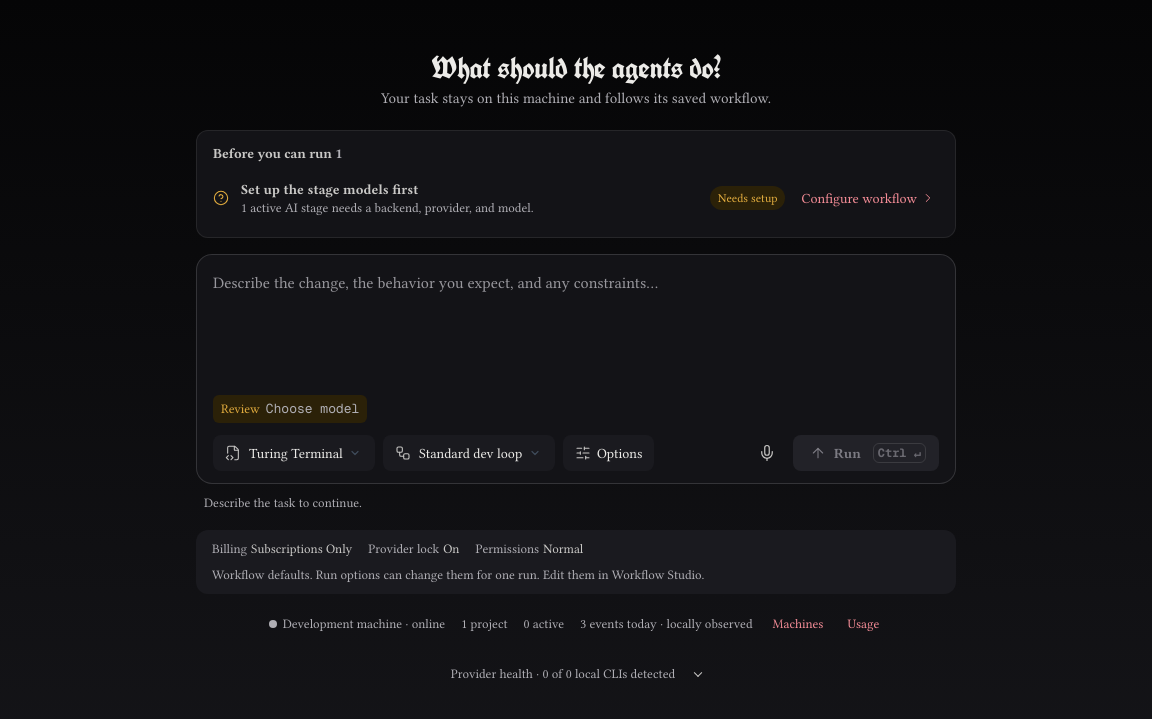
launch blockers (matrix A2) › [GREEN guard] Run stays enabled when only stage models are missing, because the server preview is authoritative
Type "Fix the parser" into the text box named "What should the agents do?" at (576, 327), box [213, 271, 939, 383]
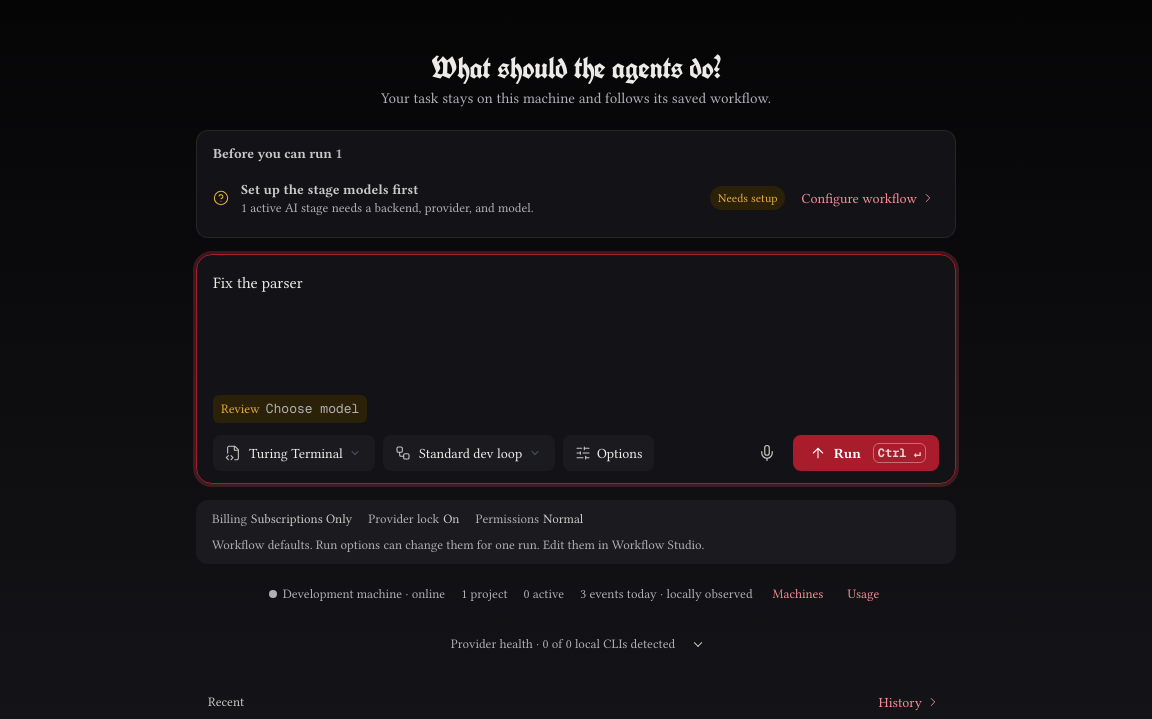
Check: the text "Set up the stage models first" is shown, box [241, 181, 418, 197]
Check: the button with aria-label "Review run preview" is enabled, box [793, 435, 939, 471]
